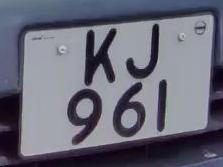1: (148, 72, 177, 140)
6: (106, 77, 157, 141)
9: (57, 81, 114, 150)
J: (120, 17, 169, 85)
K: (73, 21, 122, 88)
